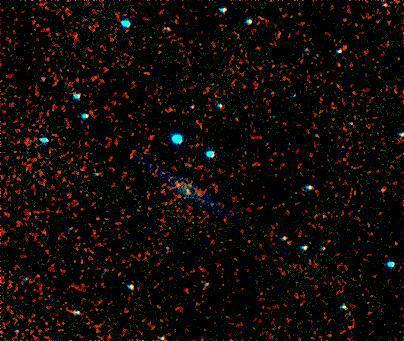star: (162, 170, 192, 200)
